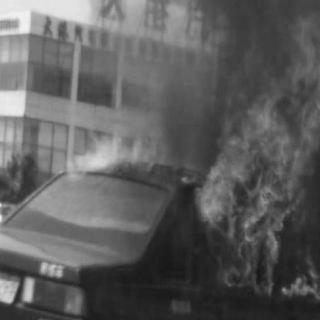Fire: (129, 16, 313, 300)
